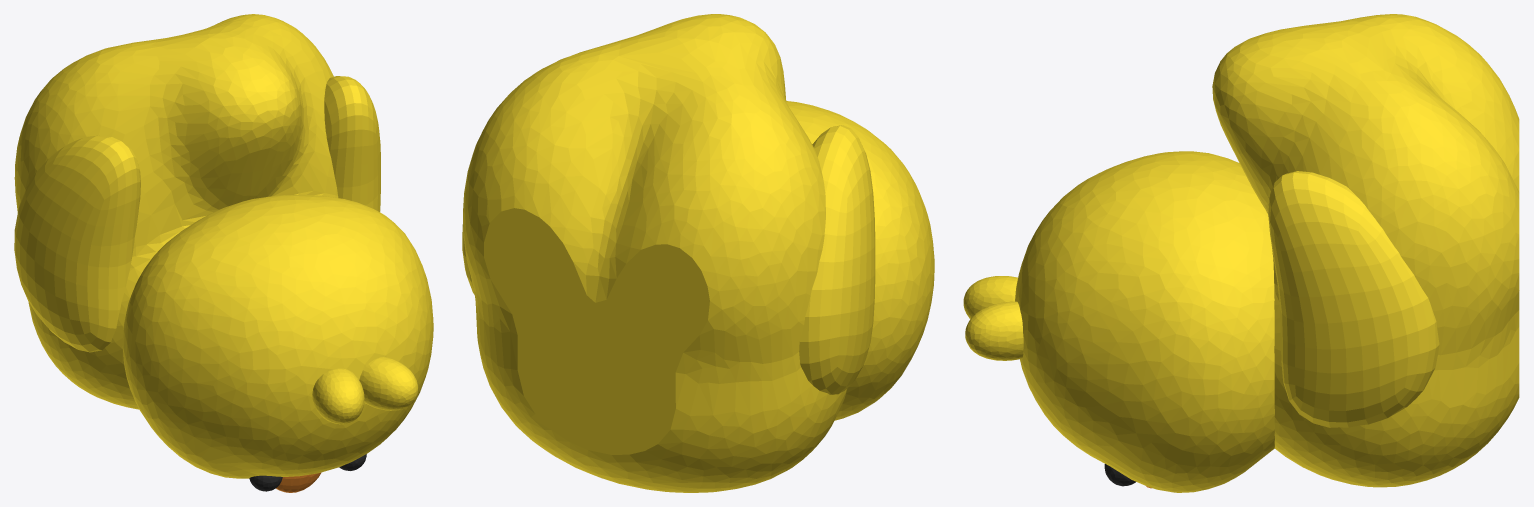
The model's file is chick.glb.
The picture shows the model from 3 angles, left to right: view 1: azimuth 30°, elevation 25°; view 2: azimuth 150°, elevation 25°; view 3: azimuth 270°, elevation 25°; orthographic projection. The views are drawn at different scales.
Visible parts, largest first — view 1: Sphere.041, Sphere.002, Sphere.001; view 2: Sphere.041, Sphere.002; view 3: Sphere.041, Sphere.002, Sphere.001.
Boxes of the visible parts, x1,y1,x2,y2 form: Sphere.041: (14,14,433,478); Sphere.002: (14,76,380,352); Sphere.001: (249,357,418,492); Sphere.041: (463,14,934,492); Sphere.002: (462,125,875,394); Sphere.041: (1015,14,1519,492); Sphere.002: (1268,171,1439,427); Sphere.001: (963,276,1151,488).
Size of the model in its own units: 15.48 by 17.25 by 19.34.
